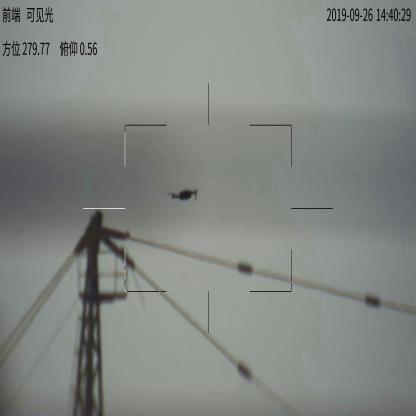uav: (168, 184, 202, 203)
